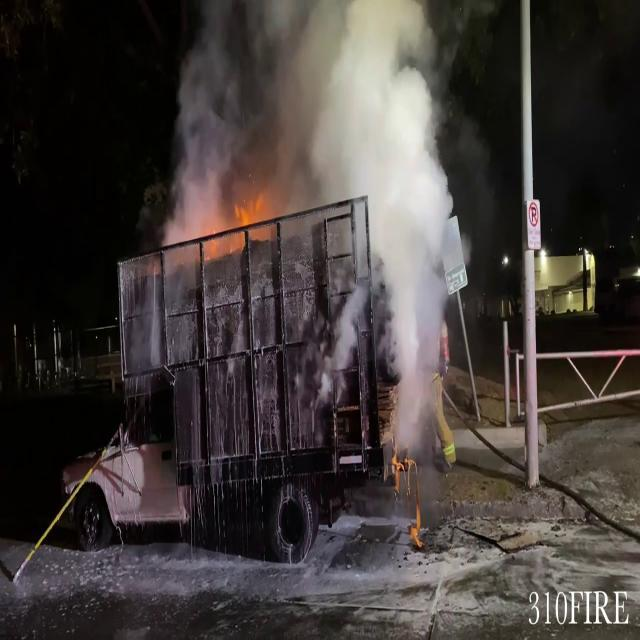Smoke: (145, 0, 442, 256), (332, 1, 460, 434)
